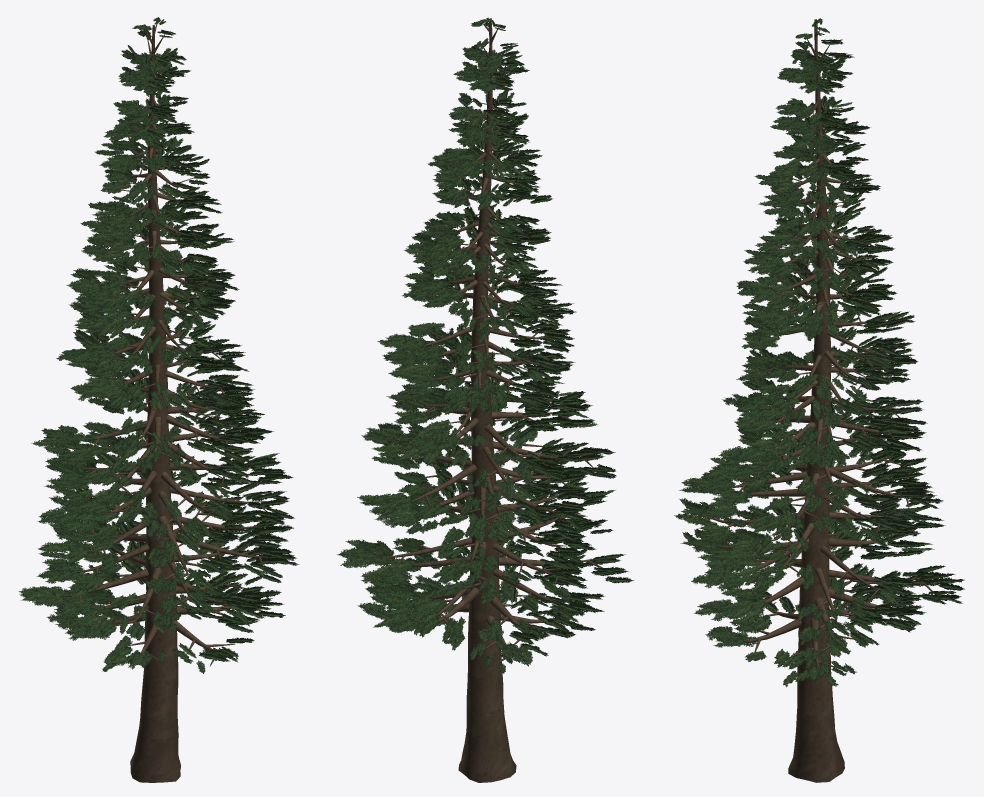
File: pine_tree_001_v2_a_LOD1.gltf
3 views of the same model, side by side, from view 1: azimuth 30°, elevation 25°; view 2: azimuth 150°, elevation 25°; view 3: azimuth 270°, elevation 25° (orthographic).
Visible parts, largest first — view 1: PineTree001_A; view 2: PineTree001_A; view 3: PineTree001_A.
Part boxes in pixels (x1,y1,x2,y2): PineTree001_A: [18, 17, 299, 782]; PineTree001_A: [337, 17, 633, 782]; PineTree001_A: [674, 18, 964, 782].
Bounding box in the file's own units: 8.31 × 22.74 × 8.31.
Materials: 2 (2 with a texture image).
